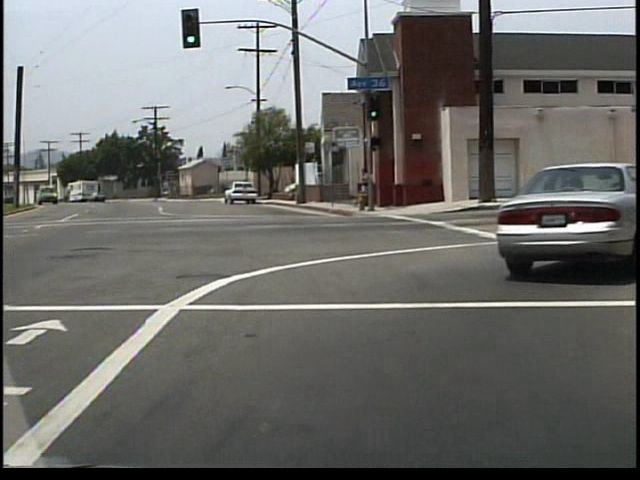person: (356, 169, 378, 214)
